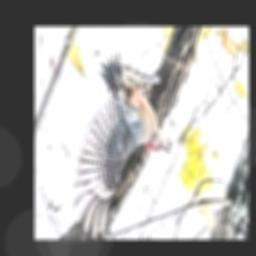Woodpecker: (73, 53, 170, 239)
